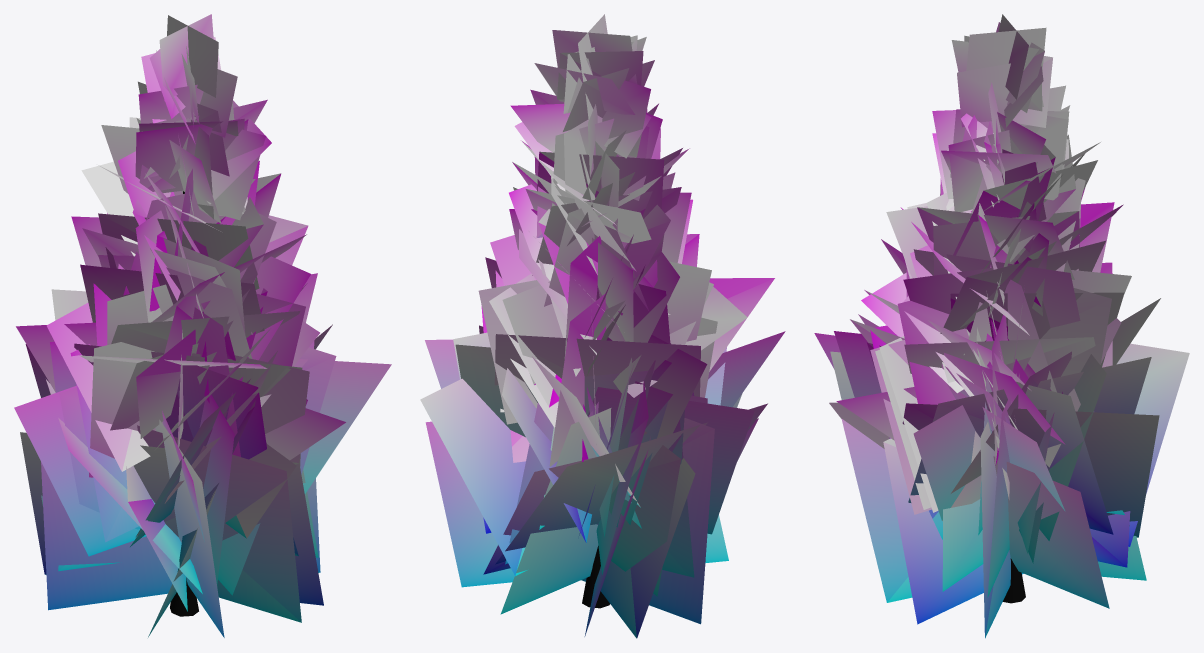
The model's file is thuja_01_big_low.dae.
The picture shows the model from 3 angles, left to right: view 1: azimuth 30°, elevation 25°; view 2: azimuth 150°, elevation 25°; view 3: azimuth 270°, elevation 25°; orthographic projection.
Visible parts, largest first — view 1: thujahigh80; view 2: thujahigh80; view 3: thujahigh80.
Part boxes in pixels (<box>): thujahigh80: <box>14,14,391,637</box>; thujahigh80: <box>420,14,785,638</box>; thujahigh80: <box>814,14,1189,638</box>.
Size of what is drawn, in the model's own units: 9.17 by 9.28 by 15.54.
